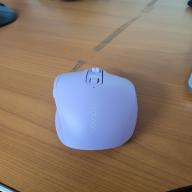mouse: (39, 61, 150, 150)
